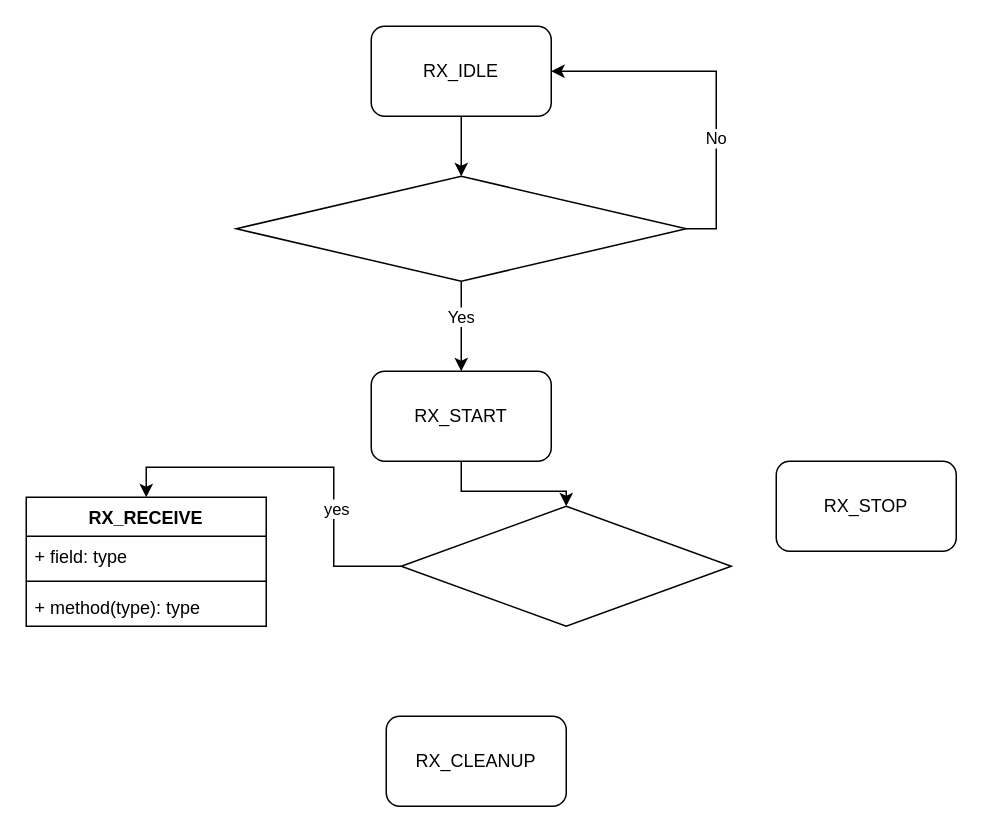
This 983x833 diagram has some shape labels left out. Here are the shapes that lost their labels. From the top down, the centre of each, then its label:
At [460,228]: "if data_i = '0' for (clk_i / baud_rate)".
At [565,565]: "(clk_i / buad_rate) / 2 and data_bit_count != 0".
